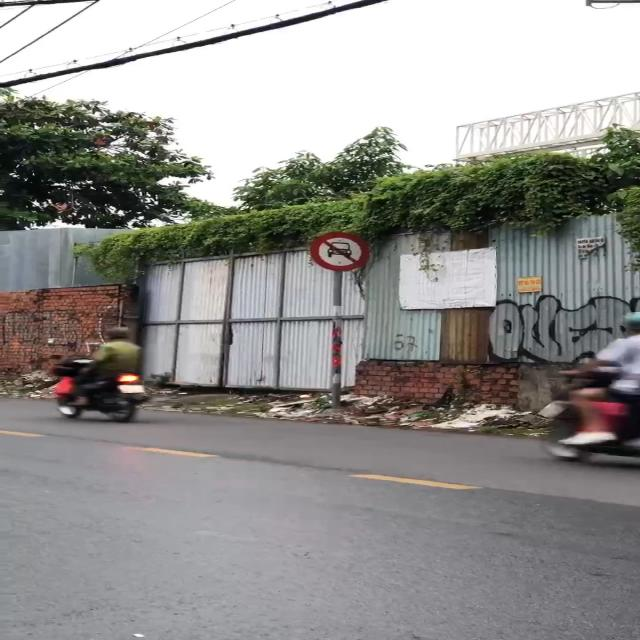Bien bao cam xe oto: (310, 230, 378, 272)
